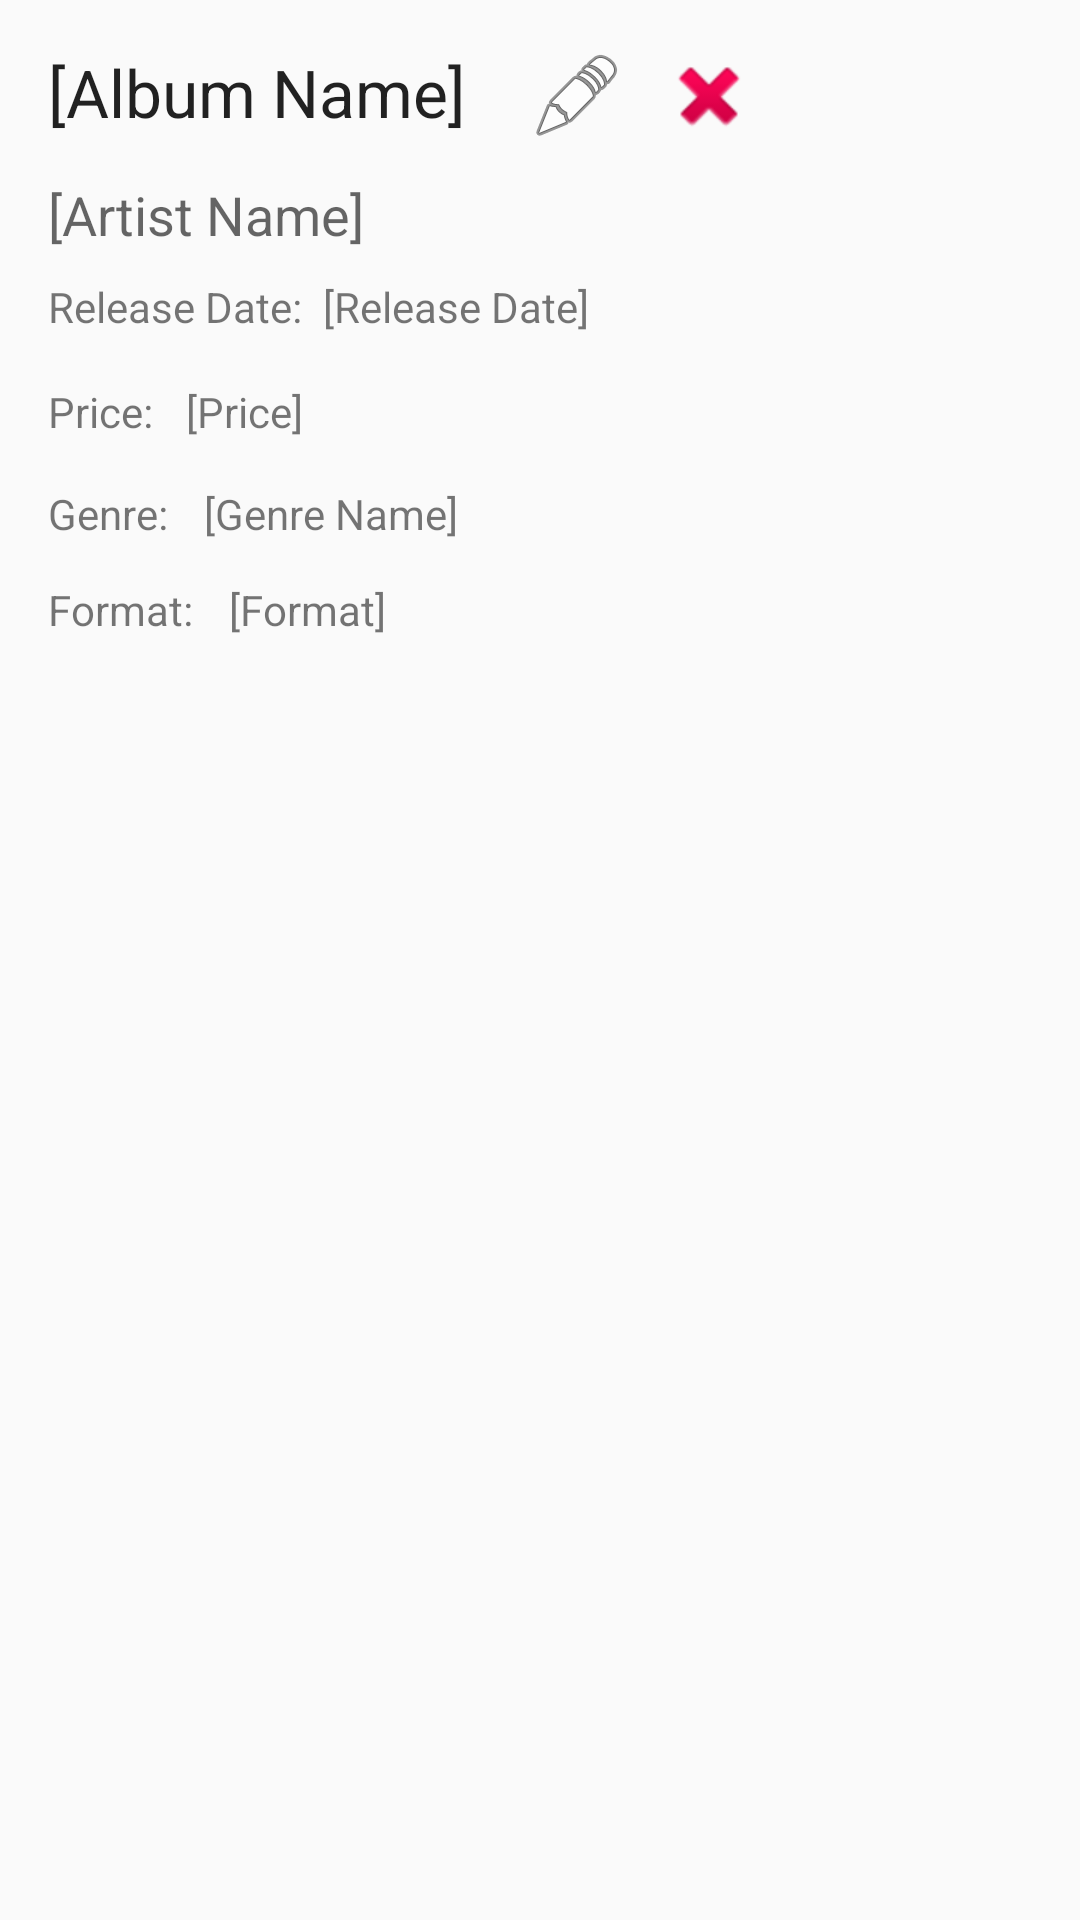

Named icons in this screenshot (1080x1920) and their bounding boxes, bbox=(x1, y1, x2, y2):
delete: bbox=(678, 67, 740, 126)
edit: bbox=(536, 55, 617, 136)
